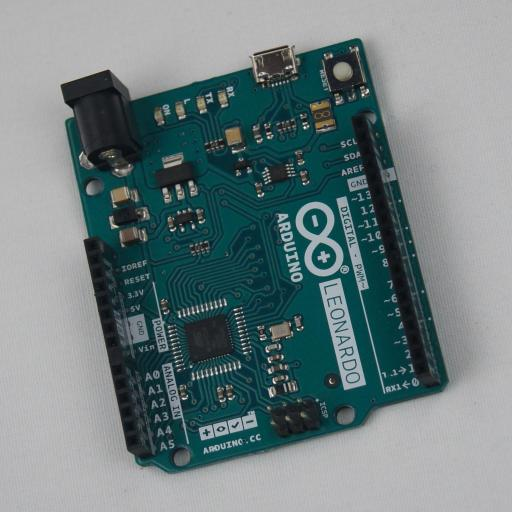Arduino Leonardo: (61, 38, 449, 474)
